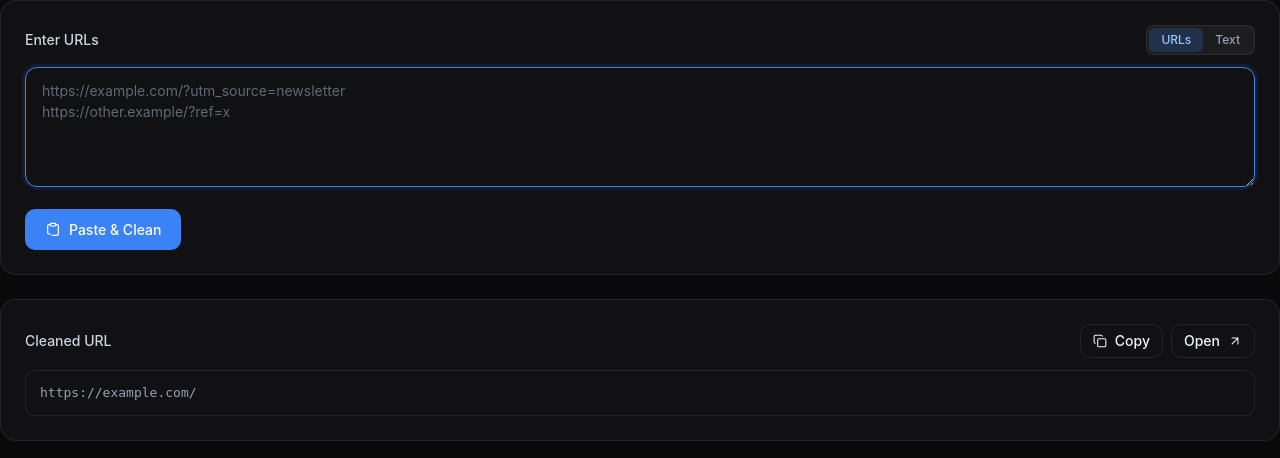
Test: UrlProcessor › copies the cleaned URL to the clipboard
Click the button "Copy" at (1121, 341), box [1080, 324, 1163, 358]
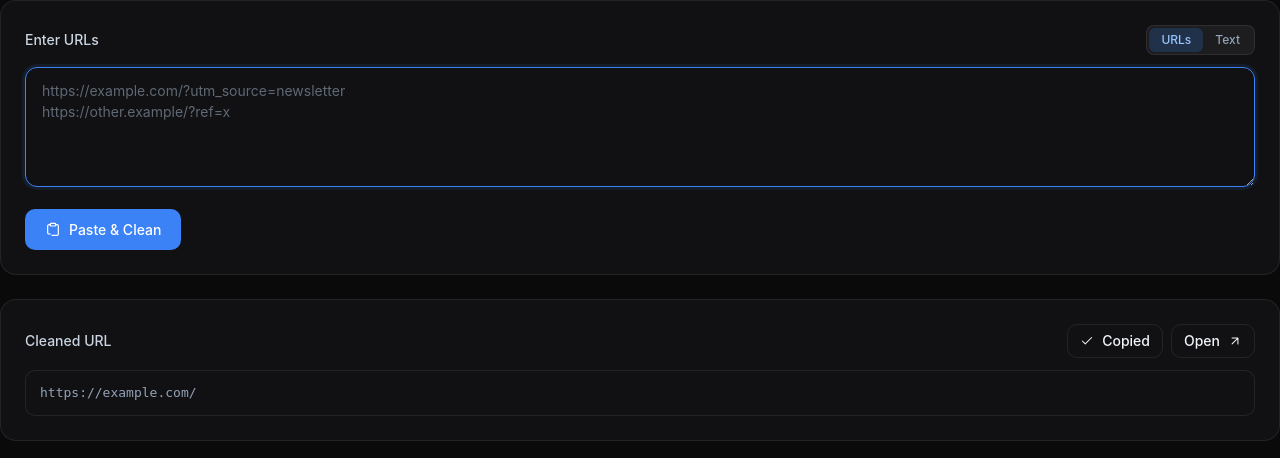
Check: the button "Copied" is shown, box [1067, 324, 1163, 358]
